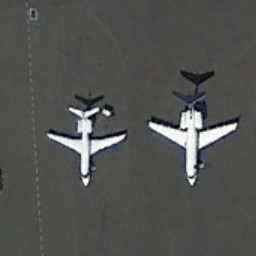Airplane: (145, 86, 242, 193), (41, 100, 131, 192)
